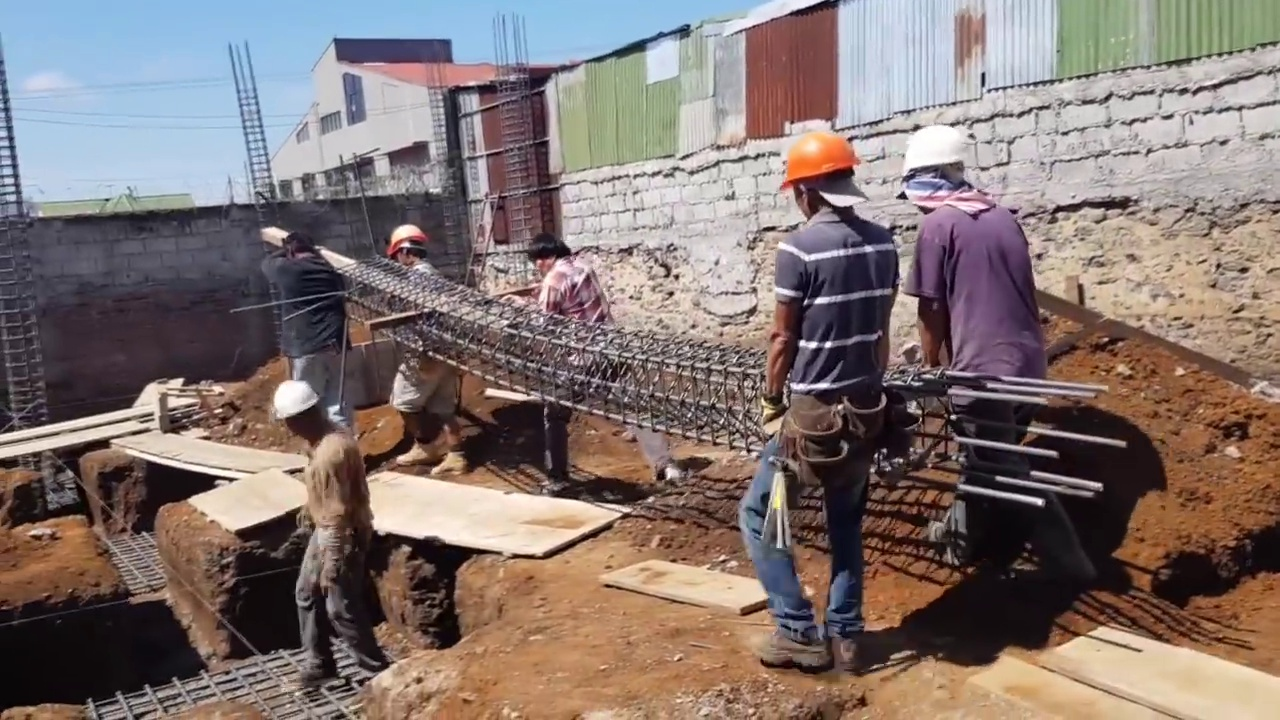helmet: (776, 133, 861, 190), (901, 125, 969, 175), (272, 380, 318, 422), (383, 223, 429, 254)
helmet-off: (527, 237, 570, 280), (281, 232, 313, 259)
helmet-on: (776, 123, 866, 232), (897, 122, 983, 217), (272, 382, 332, 448), (383, 222, 427, 267)
person: (747, 129, 908, 687), (900, 119, 1059, 563), (271, 377, 382, 700), (516, 232, 634, 478), (370, 223, 459, 472), (272, 224, 352, 379)
